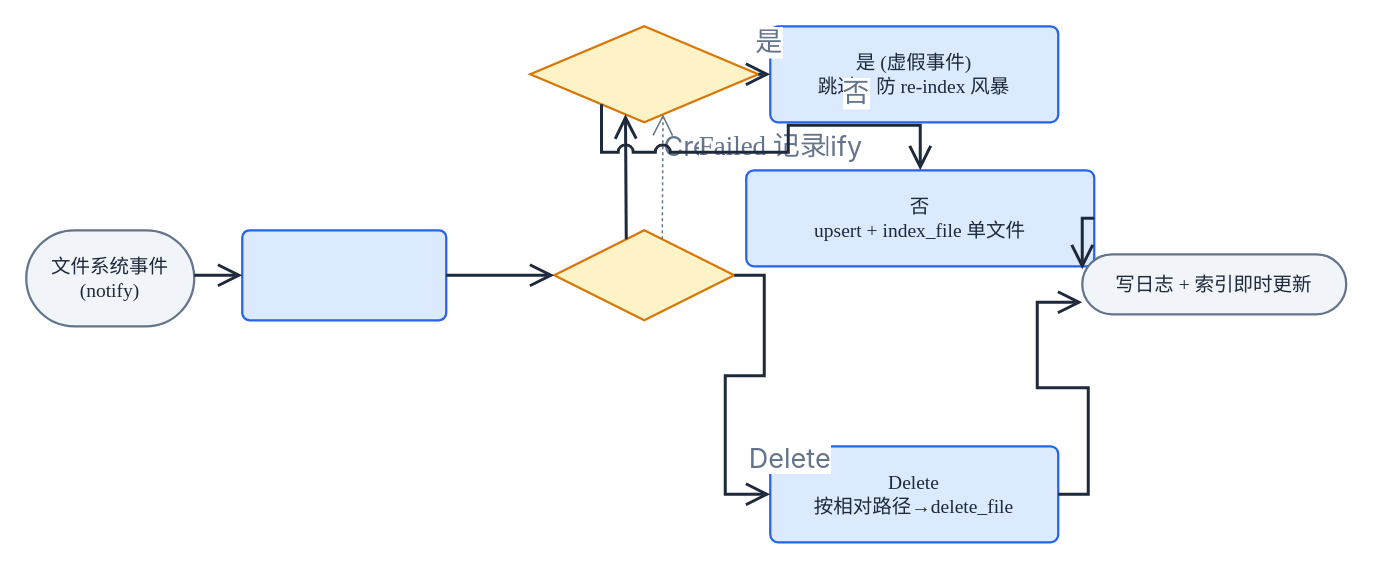
The diagram is 1374 pixels wide and 570 high, and some of its shapes have lost their labels. The shapes that lost their labels are listed below. From the top down, each one's centre as x and y in pixels, then its label:
At [643,73]: "Create / Modify 查 upsert 前记录".
At [343,274]: "300ms 防抖合并".
At [643,274]: "事件类型".
